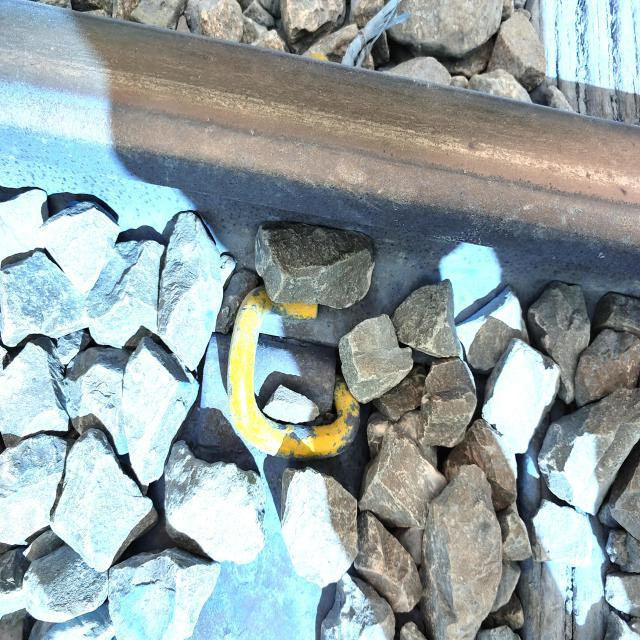Good Fasteners: (180, 280, 363, 456)
